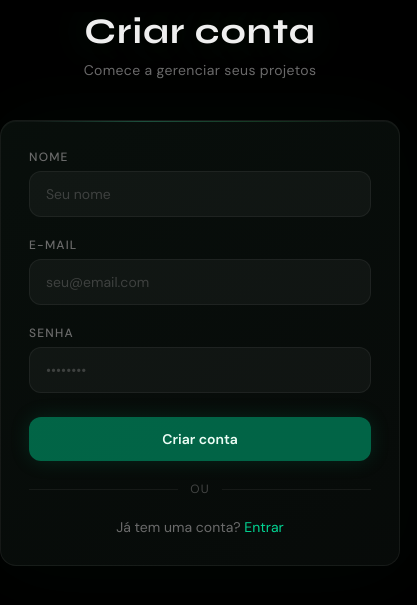
Test: RegisterPage › validates password requires uppercase letter
In the field labelled "Nome": (200, 194) [29, 171, 371, 217], type "Junior Almeida"
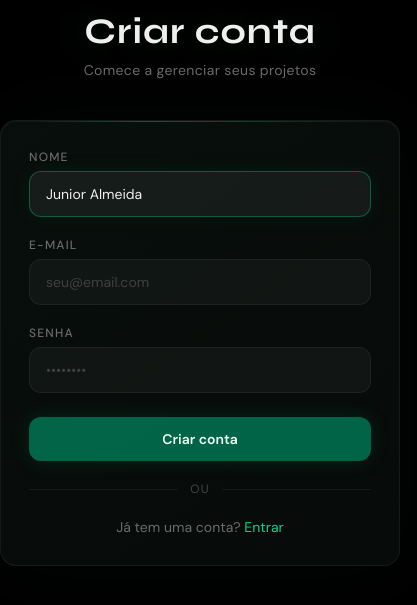
In the field labelled "E-mail": (200, 282) [29, 259, 371, 305], type "junior@email.com"
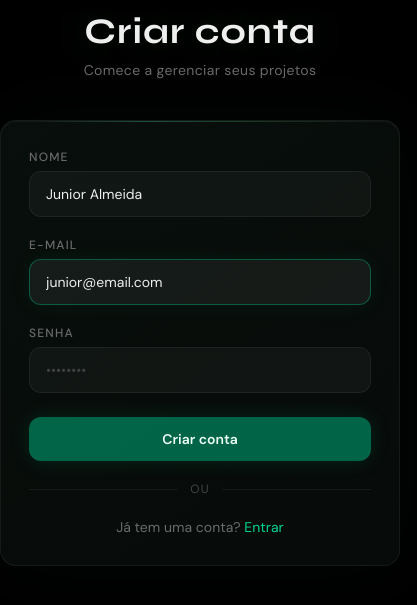
In the password field labelled "Senha": (200, 370) [29, 347, 371, 393], type "abcdefg1"
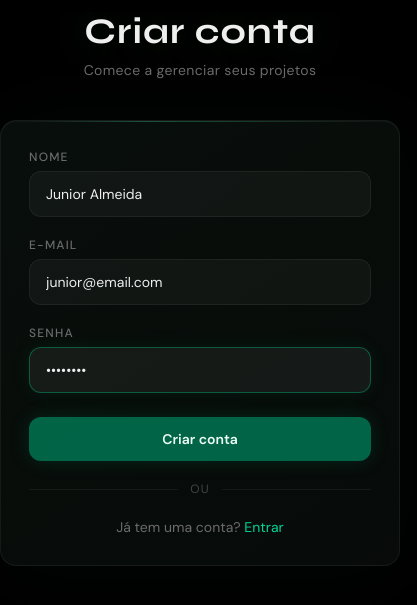
Click the button "Criar conta": (200, 439) [29, 417, 371, 461]
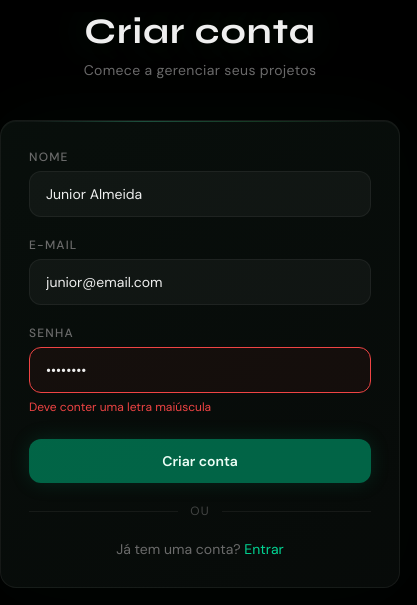
Expected: the text "Deve conter uma letra maiúscula" is shown, [29, 399, 211, 415]
